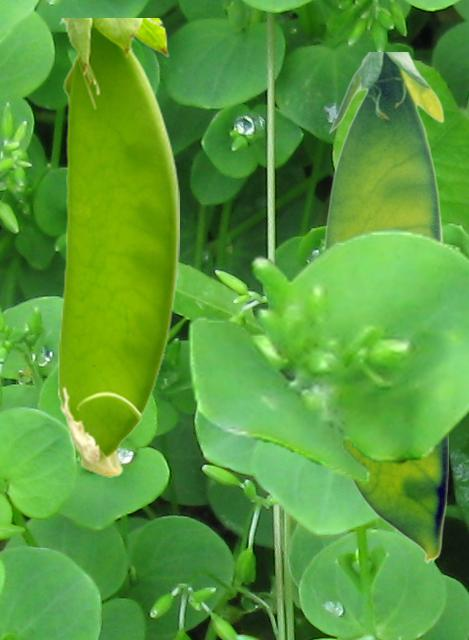pea: (322, 52, 447, 562), (58, 18, 178, 476)
